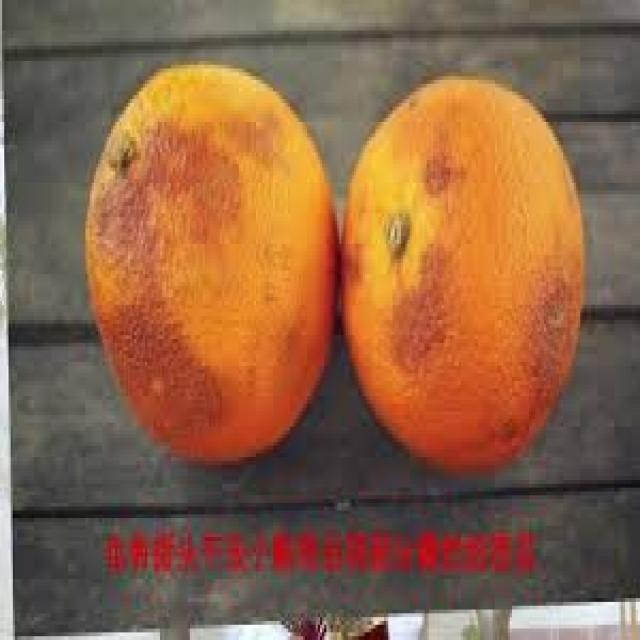organic waste: (81, 57, 335, 457), (337, 72, 585, 468)
